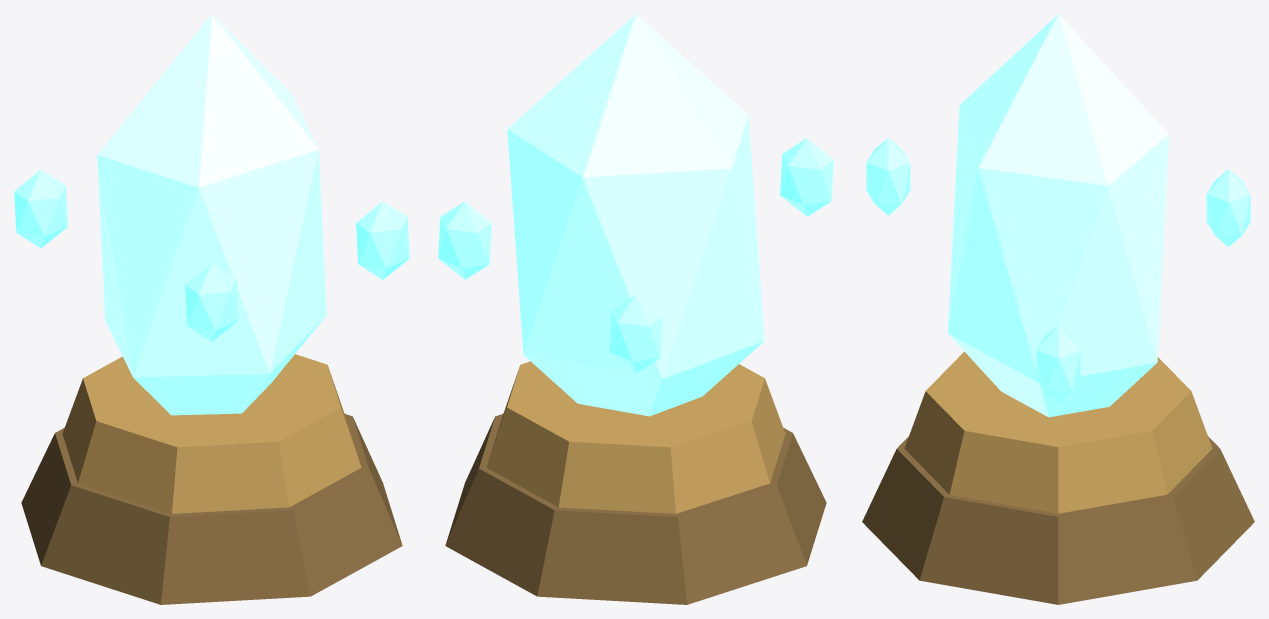
Rendered from ward_activation_crystal.glb.
3 views of the same model, side by side, from view 1: azimuth 30°, elevation 25°; view 2: azimuth 150°, elevation 25°; view 3: azimuth 270°, elevation 25° (orthographic).
Parts seen in each view (by area): view 1: Activation_Crystal, Activation_Socket_Base, Activation_Socket_Ring, Activation_Mote_1, Activation_Mote_2, Activation_Mote_3; view 2: Activation_Crystal, Activation_Socket_Base, Activation_Socket_Ring, Activation_Mote_2, Activation_Mote_1, Activation_Mote_3; view 3: Activation_Crystal, Activation_Socket_Base, Activation_Socket_Ring, Activation_Mote_3, Activation_Mote_2, Activation_Mote_1.
Part boxes in pixels (x1,y1,x2,y2): Activation_Crystal: (97,14,326,415); Activation_Socket_Base: (21,414,402,604); Activation_Socket_Ring: (62,354,361,513); Activation_Mote_1: (356,201,409,279); Activation_Mote_2: (14,170,67,248); Activation_Mote_3: (185,263,238,341); Activation_Crystal: (507,14,764,416); Activation_Socket_Base: (445,414,826,604); Activation_Socket_Ring: (486,361,785,513); Activation_Mote_2: (609,295,662,373); Activation_Mote_1: (438,201,491,279); Activation_Mote_3: (780,138,833,216); Activation_Crystal: (948,14,1168,417); Activation_Socket_Base: (862,436,1254,604); Activation_Socket_Ring: (904,351,1212,513); Activation_Mote_3: (866,137,910,215); Activation_Mote_2: (1206,169,1250,247); Activation_Mote_1: (1036,325,1080,402).
Size of the model in its own units: 0.7292 by 0.97 by 0.68.
